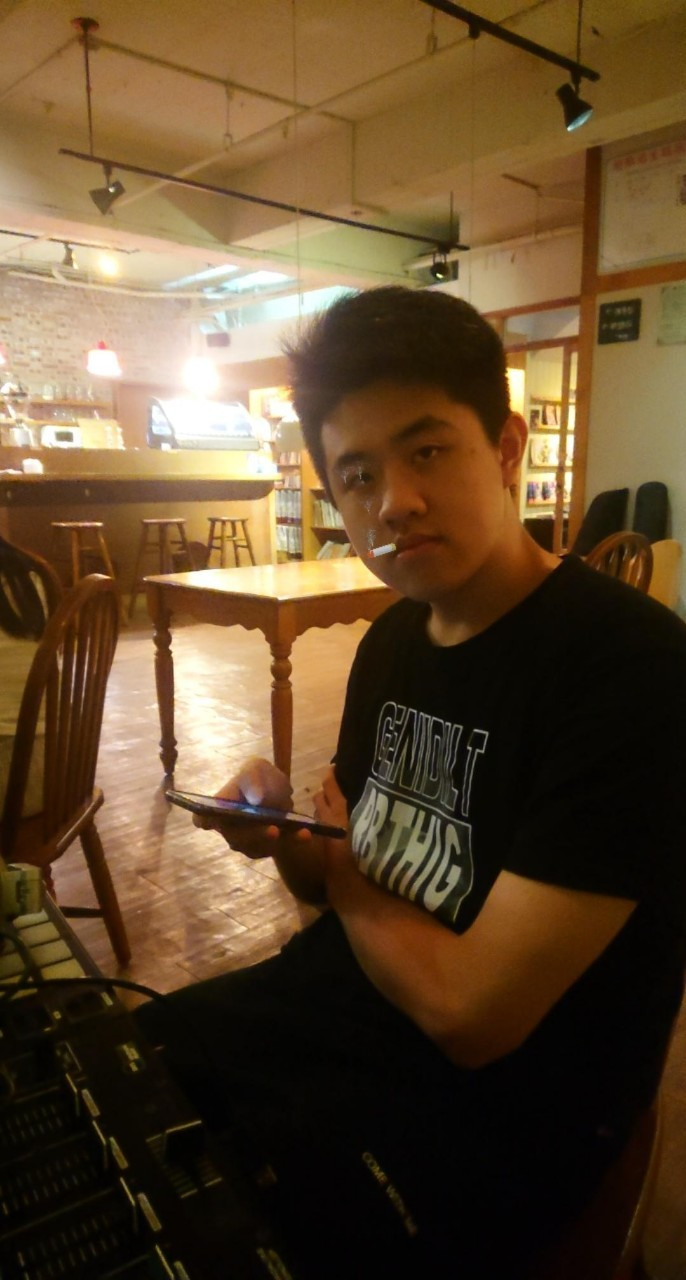people: (250, 298, 686, 1280)
